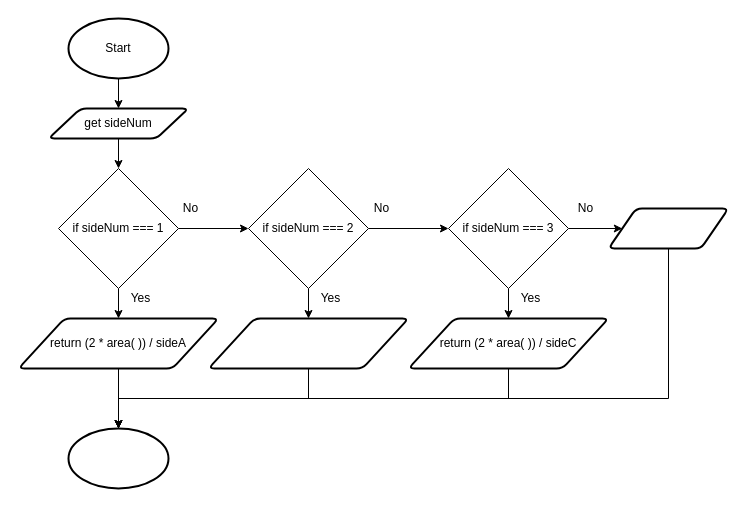
Image size: 746x506. Some labels were removed from this diagram. Each missing label, with the centre of its shape:
return (2 * area( )) / sideB: the point at 308,343
return 0: the point at 668,228
Stop: the point at 118,458
